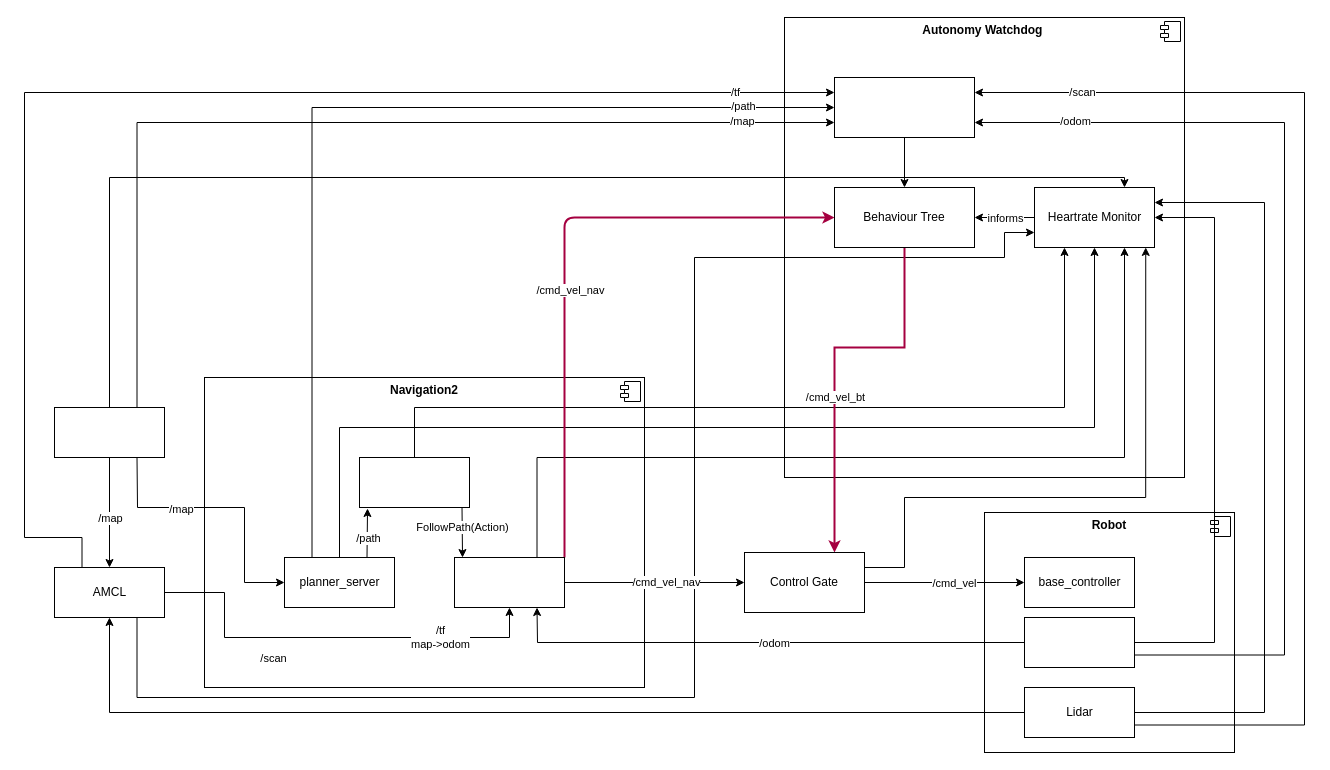
This 1330x770 diagram has some shape labels left out. Each missing label, with the centre of its shape:
"bt_navigator" belongs at point 414,482.
"controller_server" belongs at point 509,582.
"map_server / Mapping" belongs at point 109,432.
"Sensor Backup" belongs at point 904,107.
"Wheel Odometry" belongs at point 1079,642.
